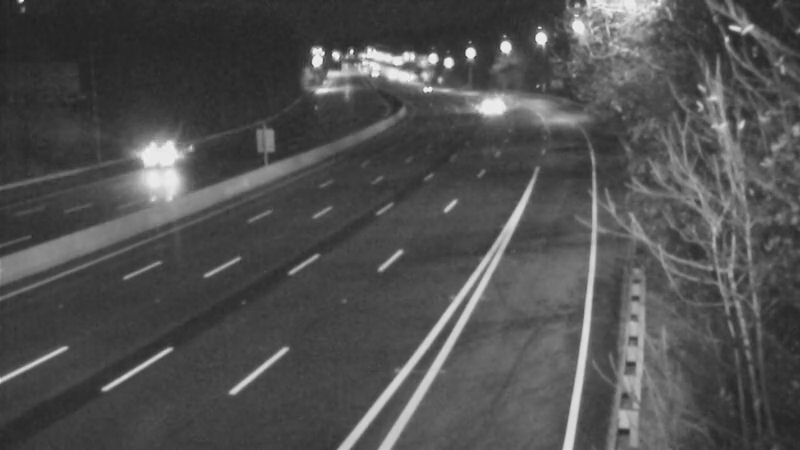vehicle: (122, 118, 202, 198), (400, 63, 450, 113), (466, 80, 516, 130)
